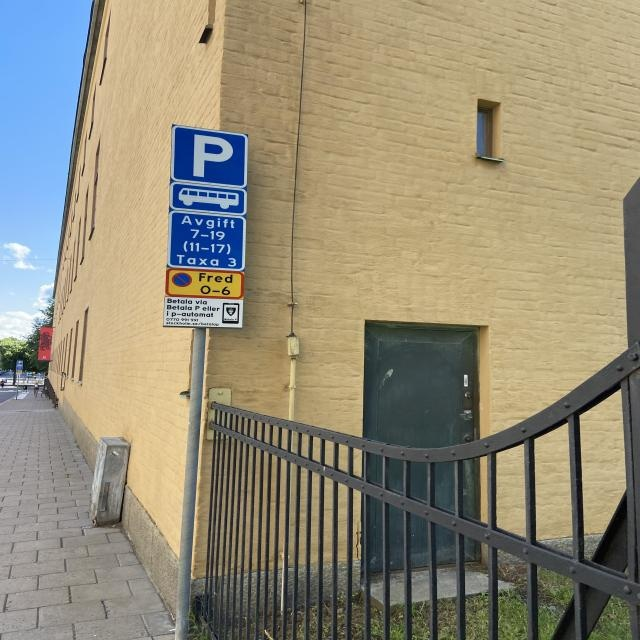P-skylt: (170, 125, 251, 189)
